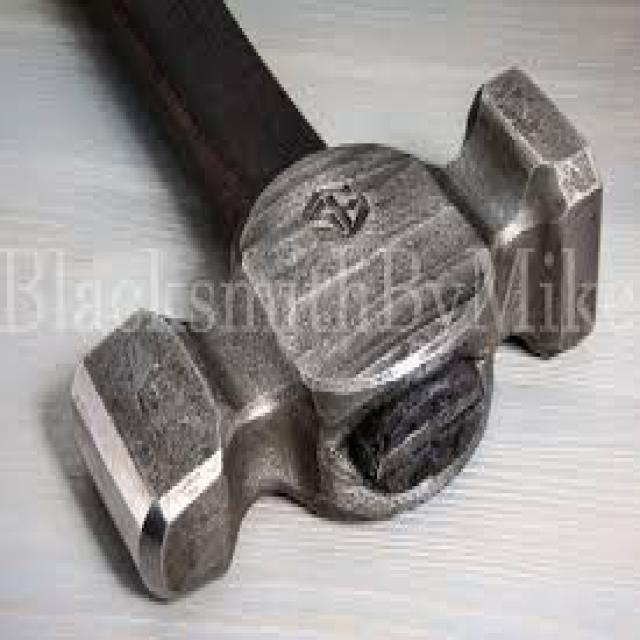hammer: (58, 0, 614, 609)
